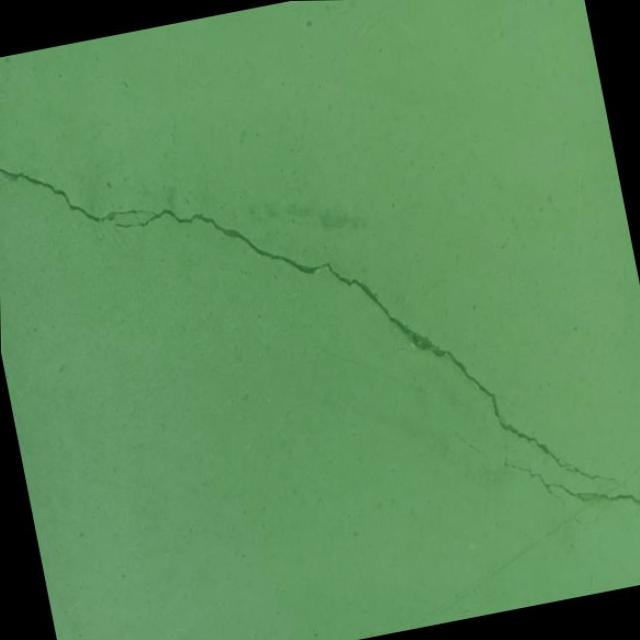crack: (0, 25, 619, 593), (449, 387, 640, 570)
